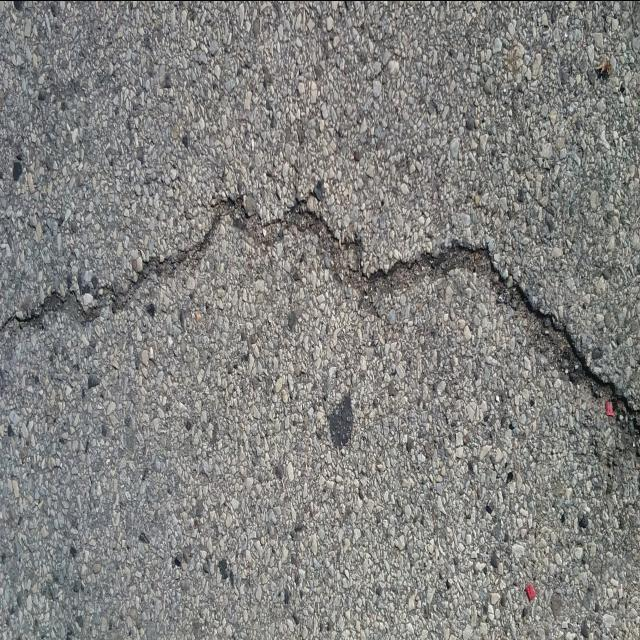Crack: (0, 188, 640, 454)
